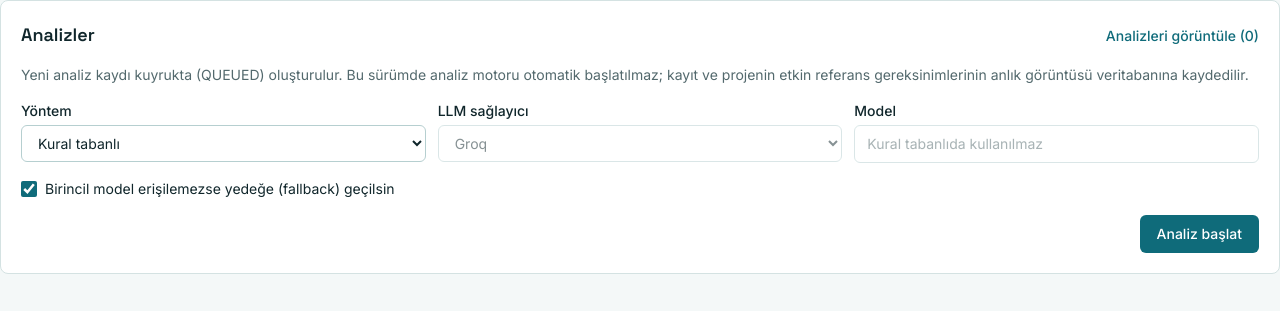
it: LLM yönteminde model zorunludur; boşsa istek gönderilmez
Select "Hibrit" in the dropdown labelled "Yöntem". click: coordinates (223, 144)
box: [21,125,426,162]
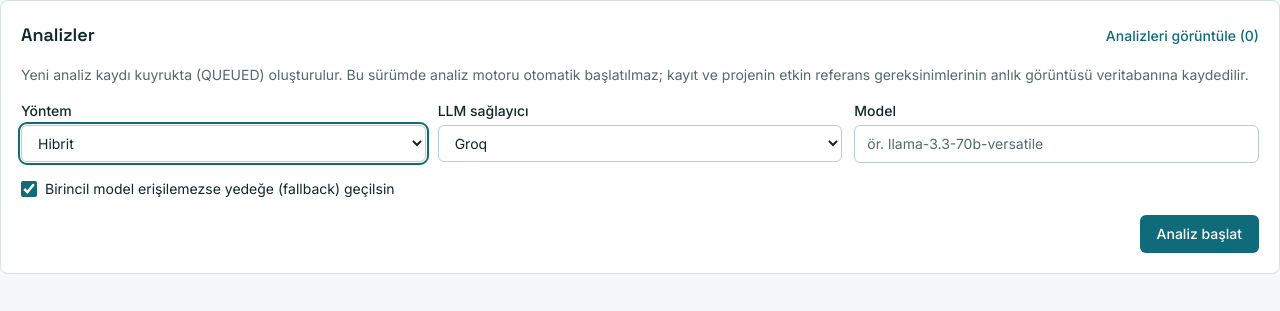
Click the button "Analiz başlat". click: coordinates (1199, 234)
box: [1140,215,1259,253]
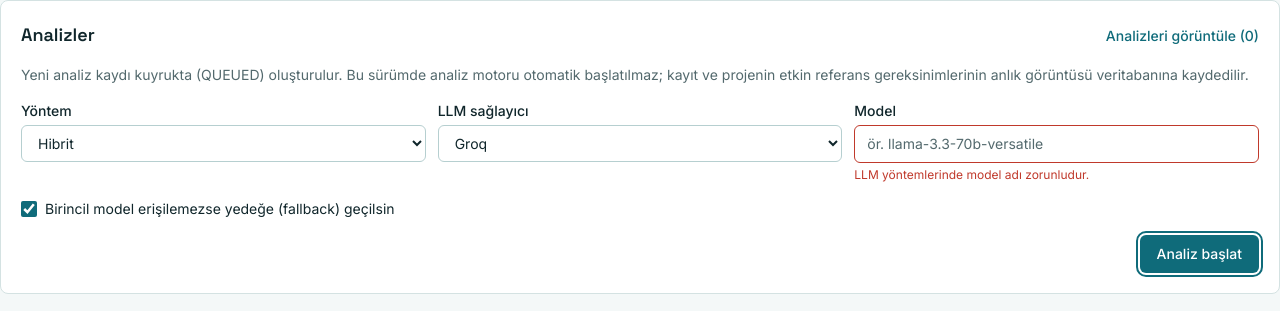
Result: the text "LLM yöntemlerinde model adı zorunludur." is shown at [854,167,1089,182]
